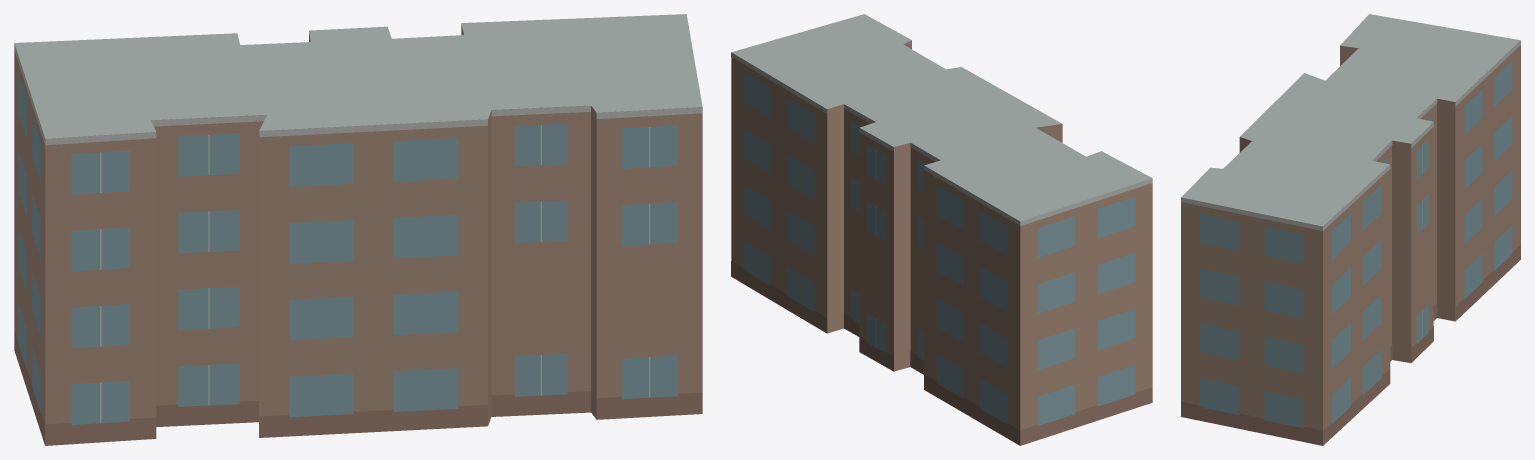
File: survey-upis-32998016.glb
3 views of the same model, side by side, from view 1: azimuth 30°, elevation 25°; view 2: azimuth 150°, elevation 25°; view 3: azimuth 270°, elevation 25° (orthographic). The views are drawn at different scales.
Parts seen in each view (by area): view 1: survey-upis-32998016.tmp; view 2: survey-upis-32998016.tmp; view 3: survey-upis-32998016.tmp.
Part boxes in pixels (left/top/right/bottom): survey-upis-32998016.tmp: left=14, top=14, right=702, bottom=445; survey-upis-32998016.tmp: left=731, top=14, right=1152, bottom=445; survey-upis-32998016.tmp: left=1181, top=14, right=1520, bottom=445.
Size of the model in its own units: 24.41 by 11.75 by 16.49.
